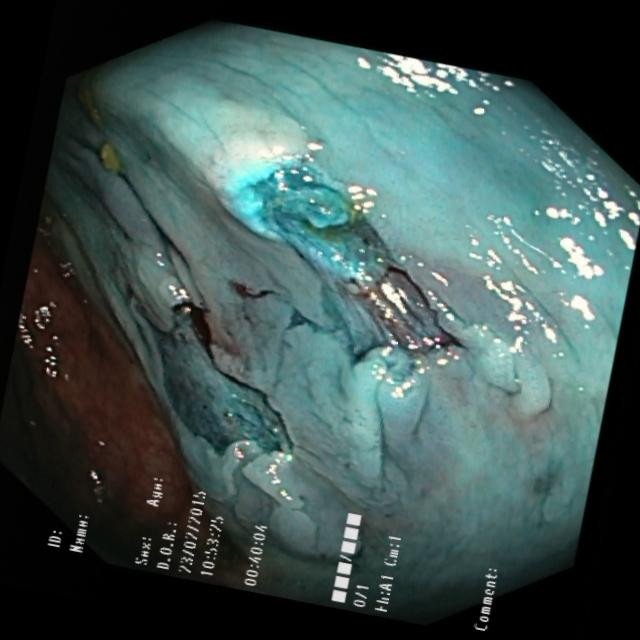dyed-resection-margins: (224, 135, 480, 371), (136, 272, 297, 469)
